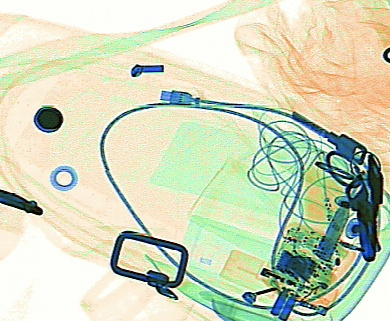lighter: (218, 248, 338, 316)
